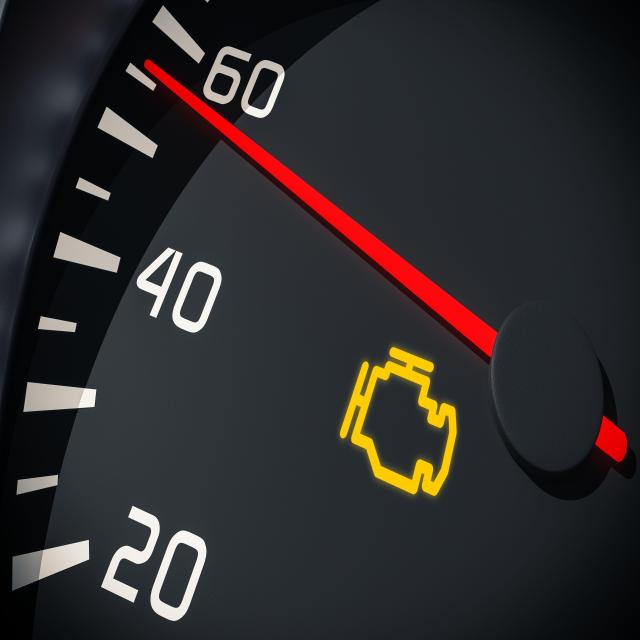kontrolka: (334, 333, 464, 513)
